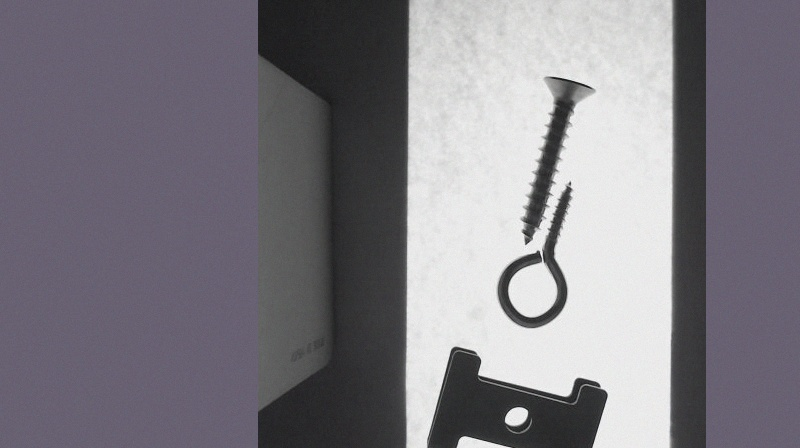O001: (495, 176, 573, 329)
O002: (427, 345, 608, 447)
S001: (522, 74, 595, 246)
